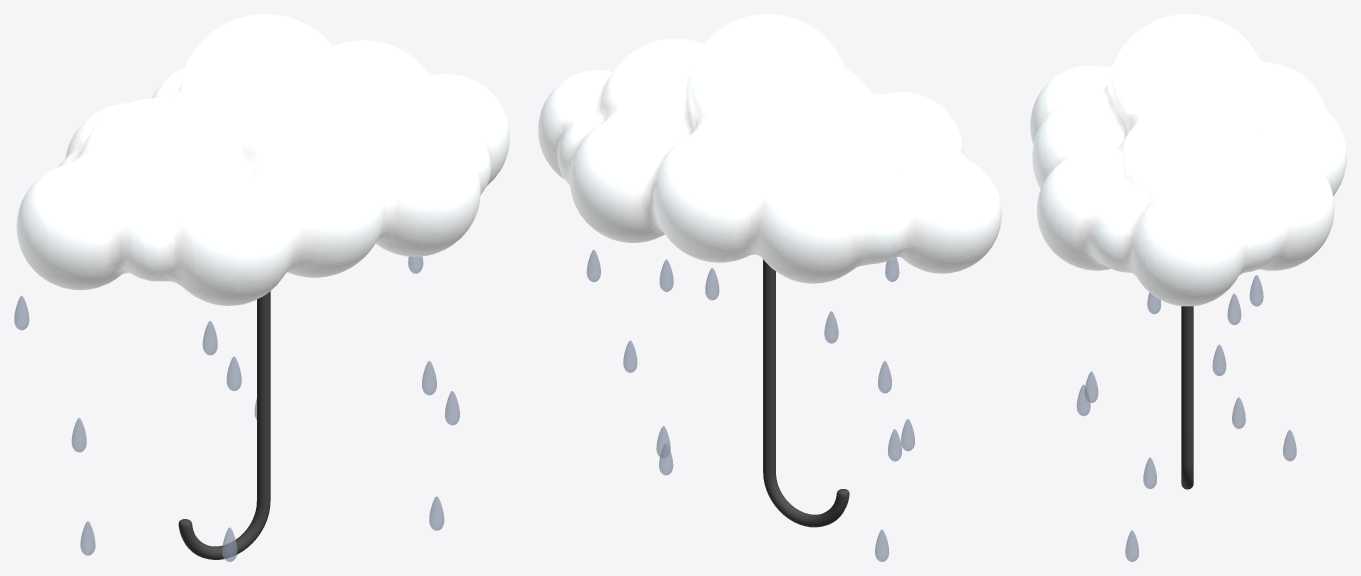
Rendered from umbrella_cloud.glb.
3 renders of one model, left to right at view 1: azimuth 30°, elevation 25°; view 2: azimuth 150°, elevation 25°; view 3: azimuth 270°, elevation 25°, orthographic. The views are drawn at different scales.
Parts seen in each view (by area): view 1: Mball.031, Torus; view 2: Mball.031, Torus; view 3: Mball.031, Torus.
Boxes of the visible parts, bbox=[...] form: Mball.031: bbox=[16, 14, 509, 305]; Torus: bbox=[178, 291, 270, 559]; Mball.031: bbox=[538, 14, 1001, 283]; Torus: bbox=[763, 259, 849, 527]; Mball.031: bbox=[1030, 14, 1346, 306]; Torus: bbox=[1181, 306, 1193, 489].
Bounding box in the file's own units: 12.13 × 12.81 × 7.63.
Materials: 1 (1 with a texture image).
